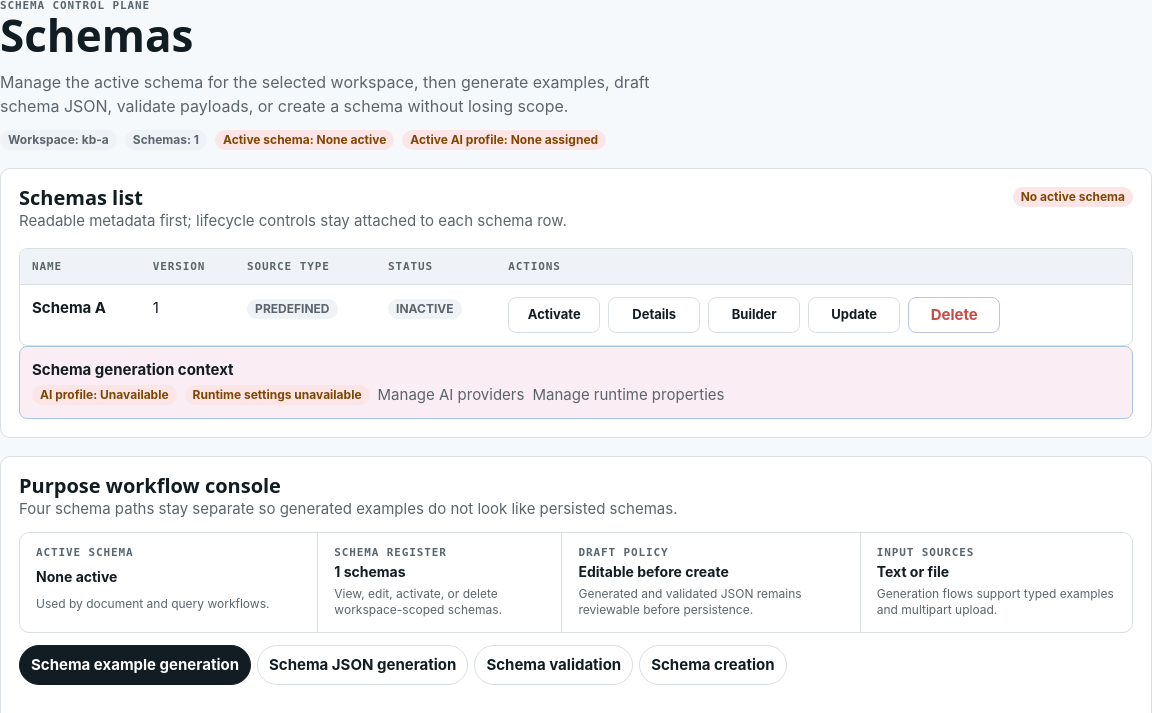
Test: schemas workflows › confirms schema delete, skips deletion when canceled, and shows delete failures
Click the button "Delete" at {"x": 954, "y": 315}, box [908,297,1000,333]
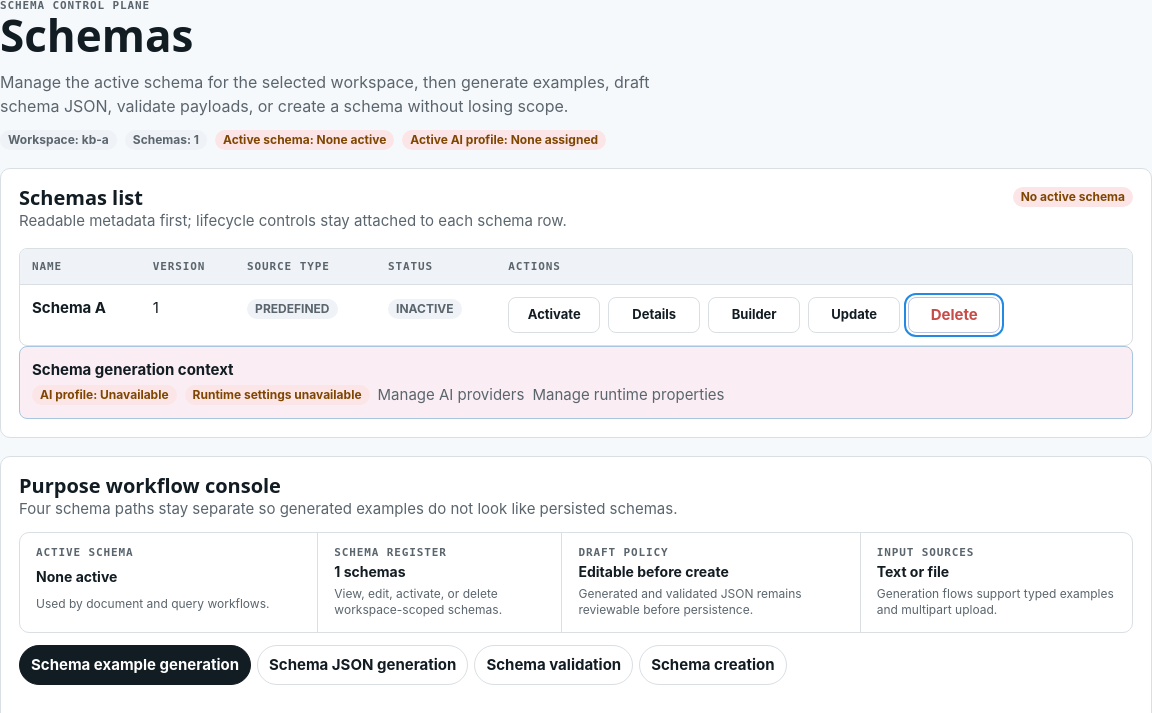
Click the button "Delete" at {"x": 954, "y": 315}, box [908,297,1000,333]
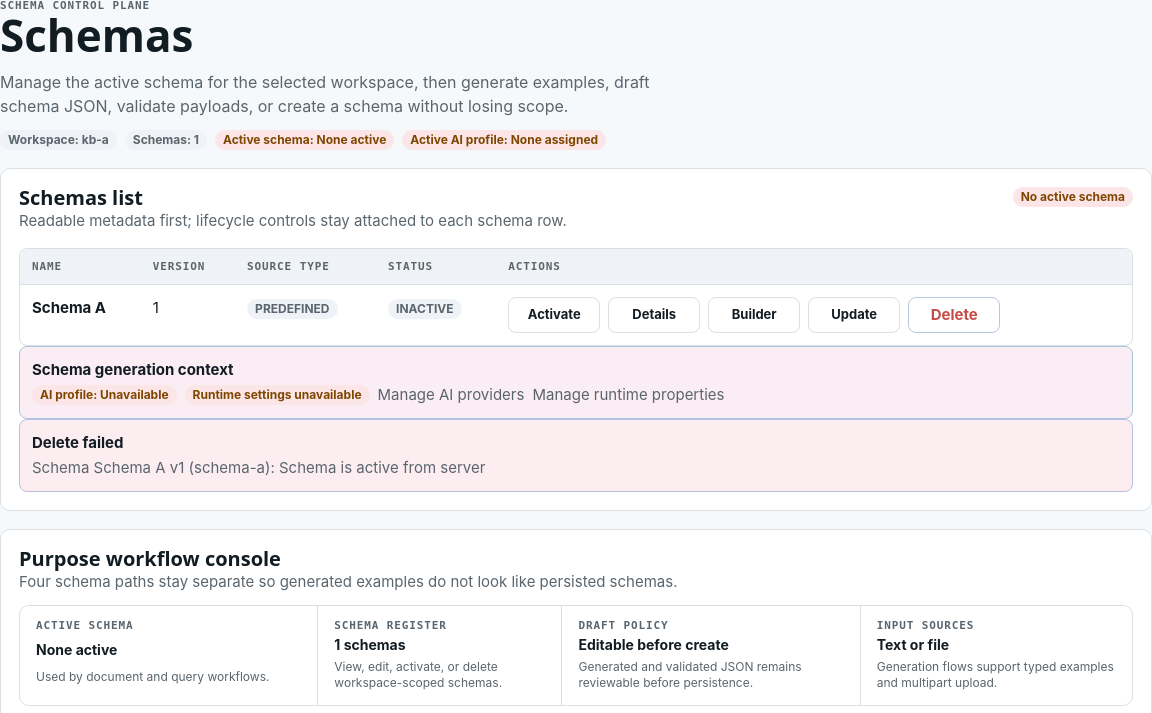
expect the text "Delete failed" is shown: met, box [32,433,124,452]
expect the text "Schema Schema A v1 (schema-a): Schema is active from server" is shown: met, box [32,458,485,477]
